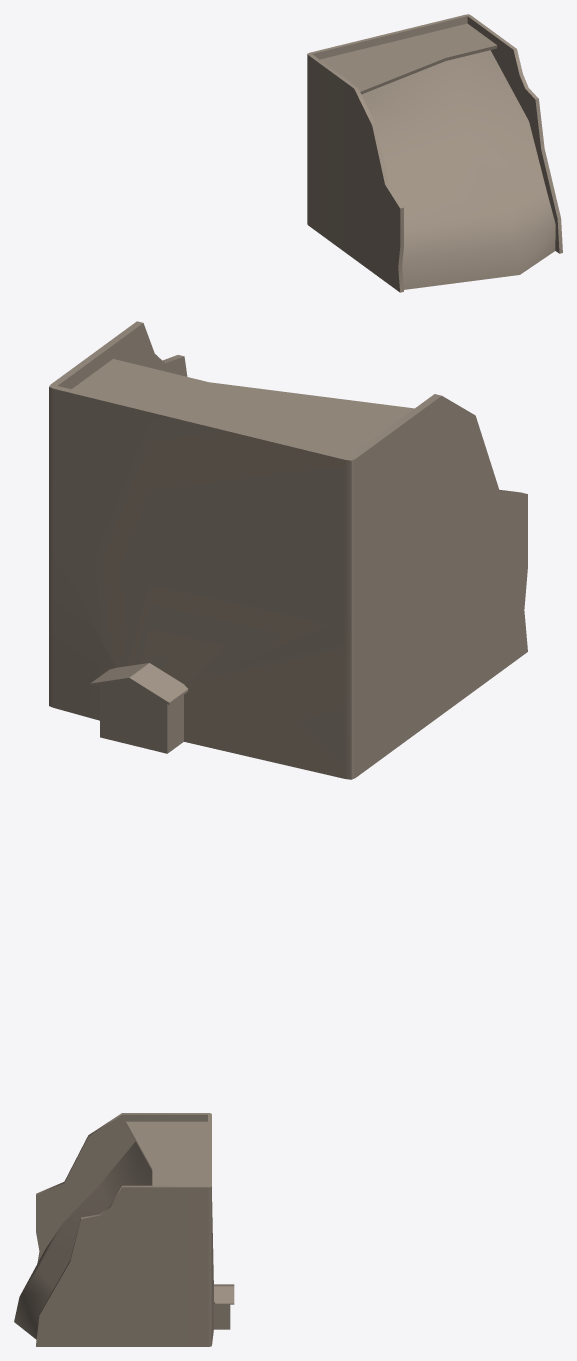
Rendered from building4.fbx.
The picture shows the model from 3 angles, top to bottom: view 1: azimuth 30°, elevation 25°; view 2: azimuth 150°, elevation 25°; view 3: azimuth 270°, elevation 25°; orthographic projection. The views are drawn at different scales.
Parts seen in each view (by area): view 1: building4; view 2: building4; view 3: building4.
Boxes of the visible parts, left/top/right/bottom form: building4: left=307, top=14, right=562, bottom=292; building4: left=49, top=321, right=527, bottom=779; building4: left=14, top=1113, right=234, bottom=1346.
Size of the model in its own units: 3564 by 2170 by 6760.
